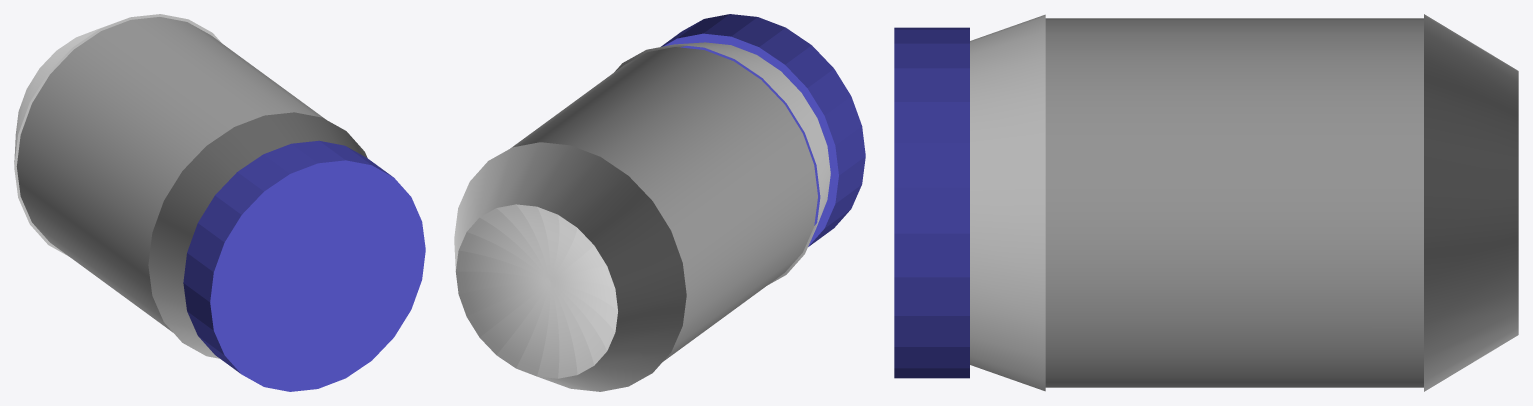
File: model_align.obj
3 views of the same model, side by side, from view 1: azimuth 30°, elevation 25°; view 2: azimuth 150°, elevation 25°; view 3: azimuth 270°, elevation 25° (orthographic). The views are drawn at different scales.
Visible parts, largest first — view 1: mesh6_mesh6-geometry, mesh1_mesh1-geometry, mesh2_mesh2-geometry; view 2: mesh1_mesh1-geometry, mesh6_mesh6-geometry, mesh2_mesh2-geometry; view 3: mesh1_mesh1-geometry, mesh6_mesh6-geometry, mesh2_mesh2-geometry.
Boxes of the visible parts, x1,y1,x2,y2 form: mesh6_mesh6-geometry: (183,140,425,391); mesh1_mesh1-geometry: (14,14,325,332); mesh2_mesh2-geometry: (148,112,367,358); mesh1_mesh1-geometry: (454,47,817,391); mesh6_mesh6-geometry: (661,14,865,246); mesh2_mesh2-geometry: (614,42,830,284); mesh1_mesh1-geometry: (1045,14,1518,391); mesh6_mesh6-geometry: (894,27,969,378); mesh2_mesh2-geometry: (970,14,1045,391).
Bounding box in the file's own units: 0.107 × 0.107 × 0.176.
